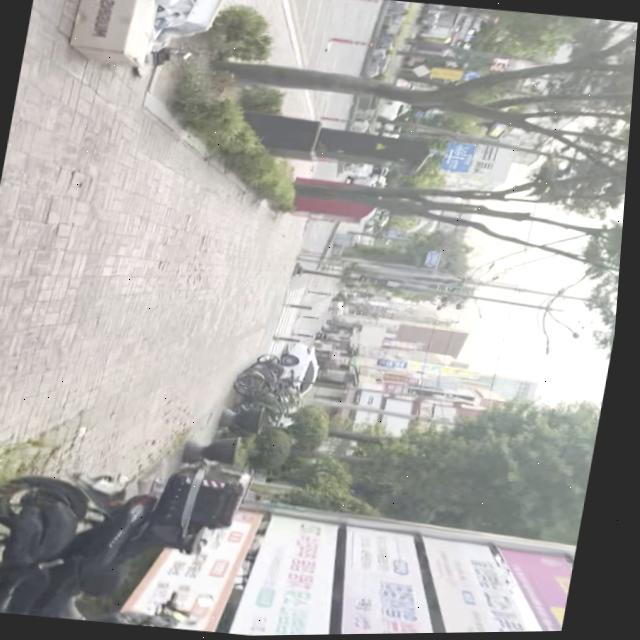crosswalk: (272, 289, 301, 338)
